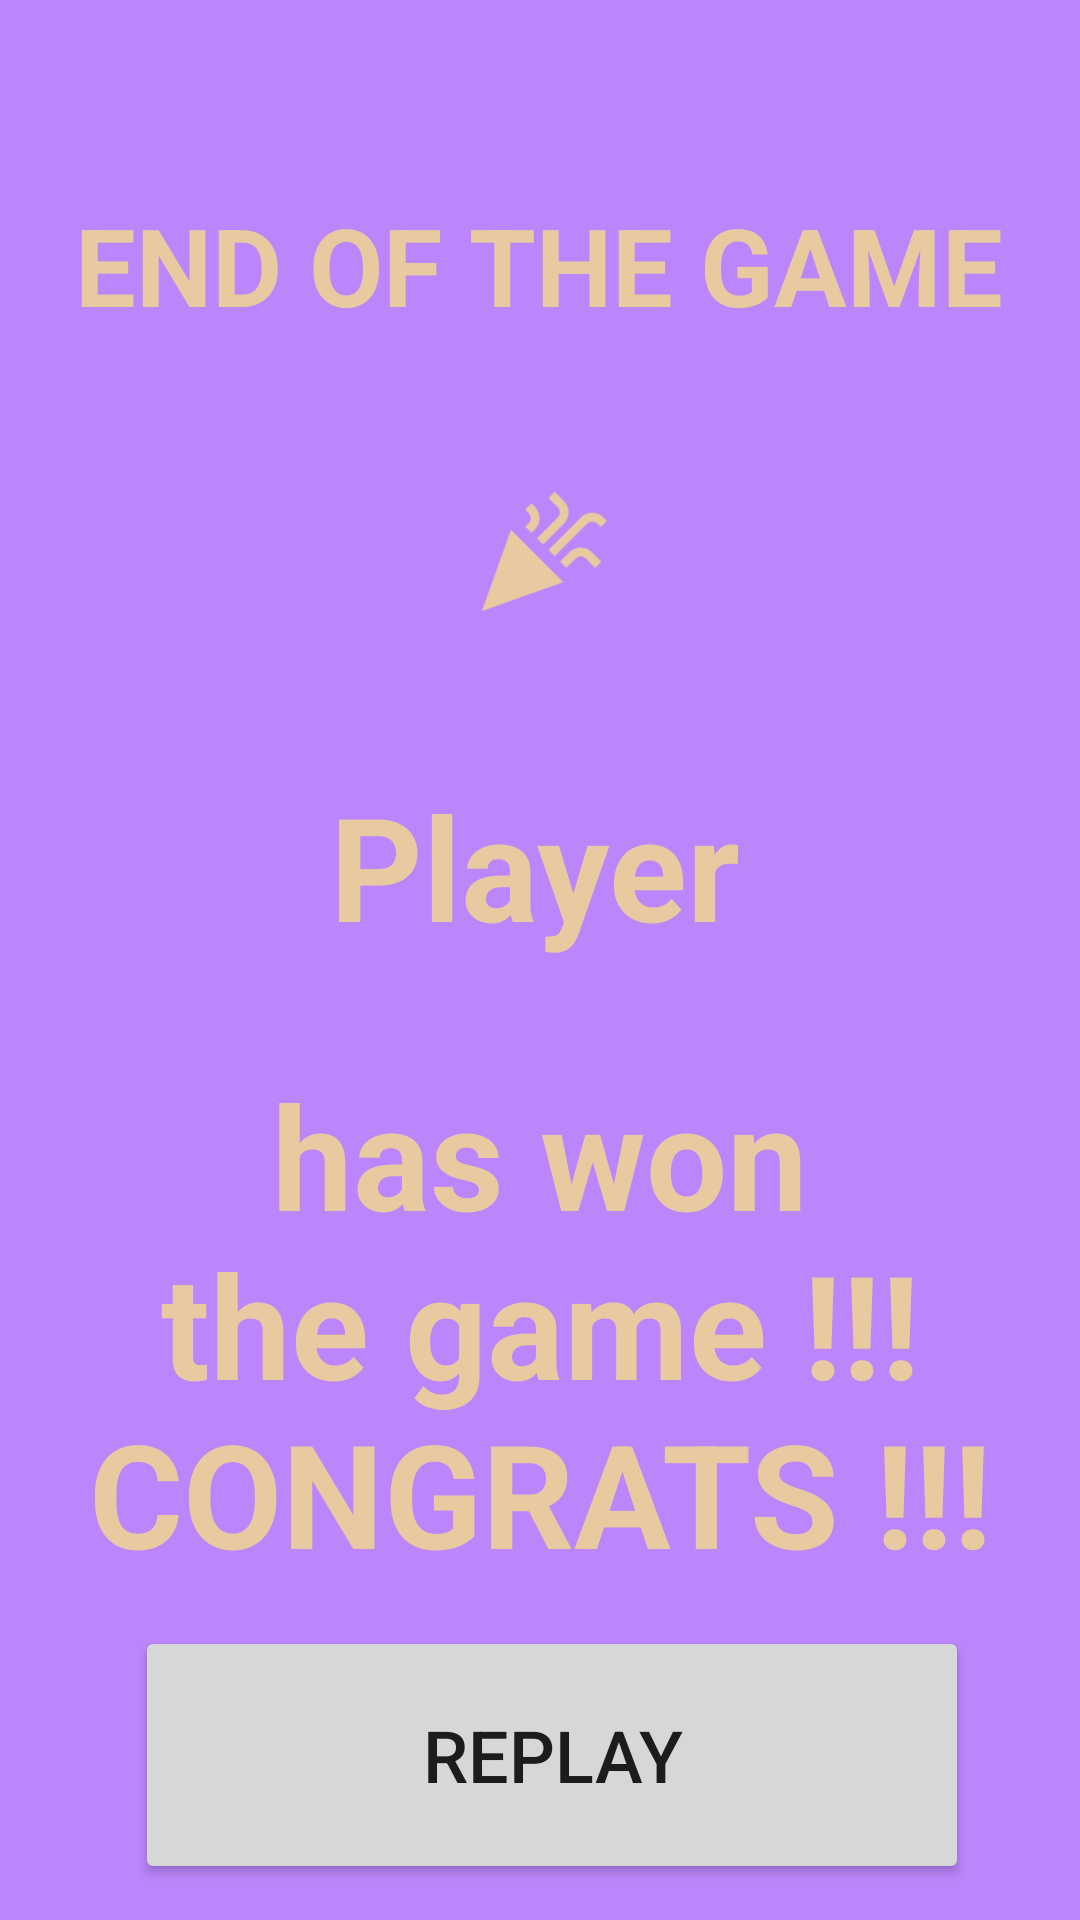

Icons on this 1080 x 1920 Android screen, each with its box as (x1, y1, x2, y2):
congratulations: (482, 492, 607, 611)
